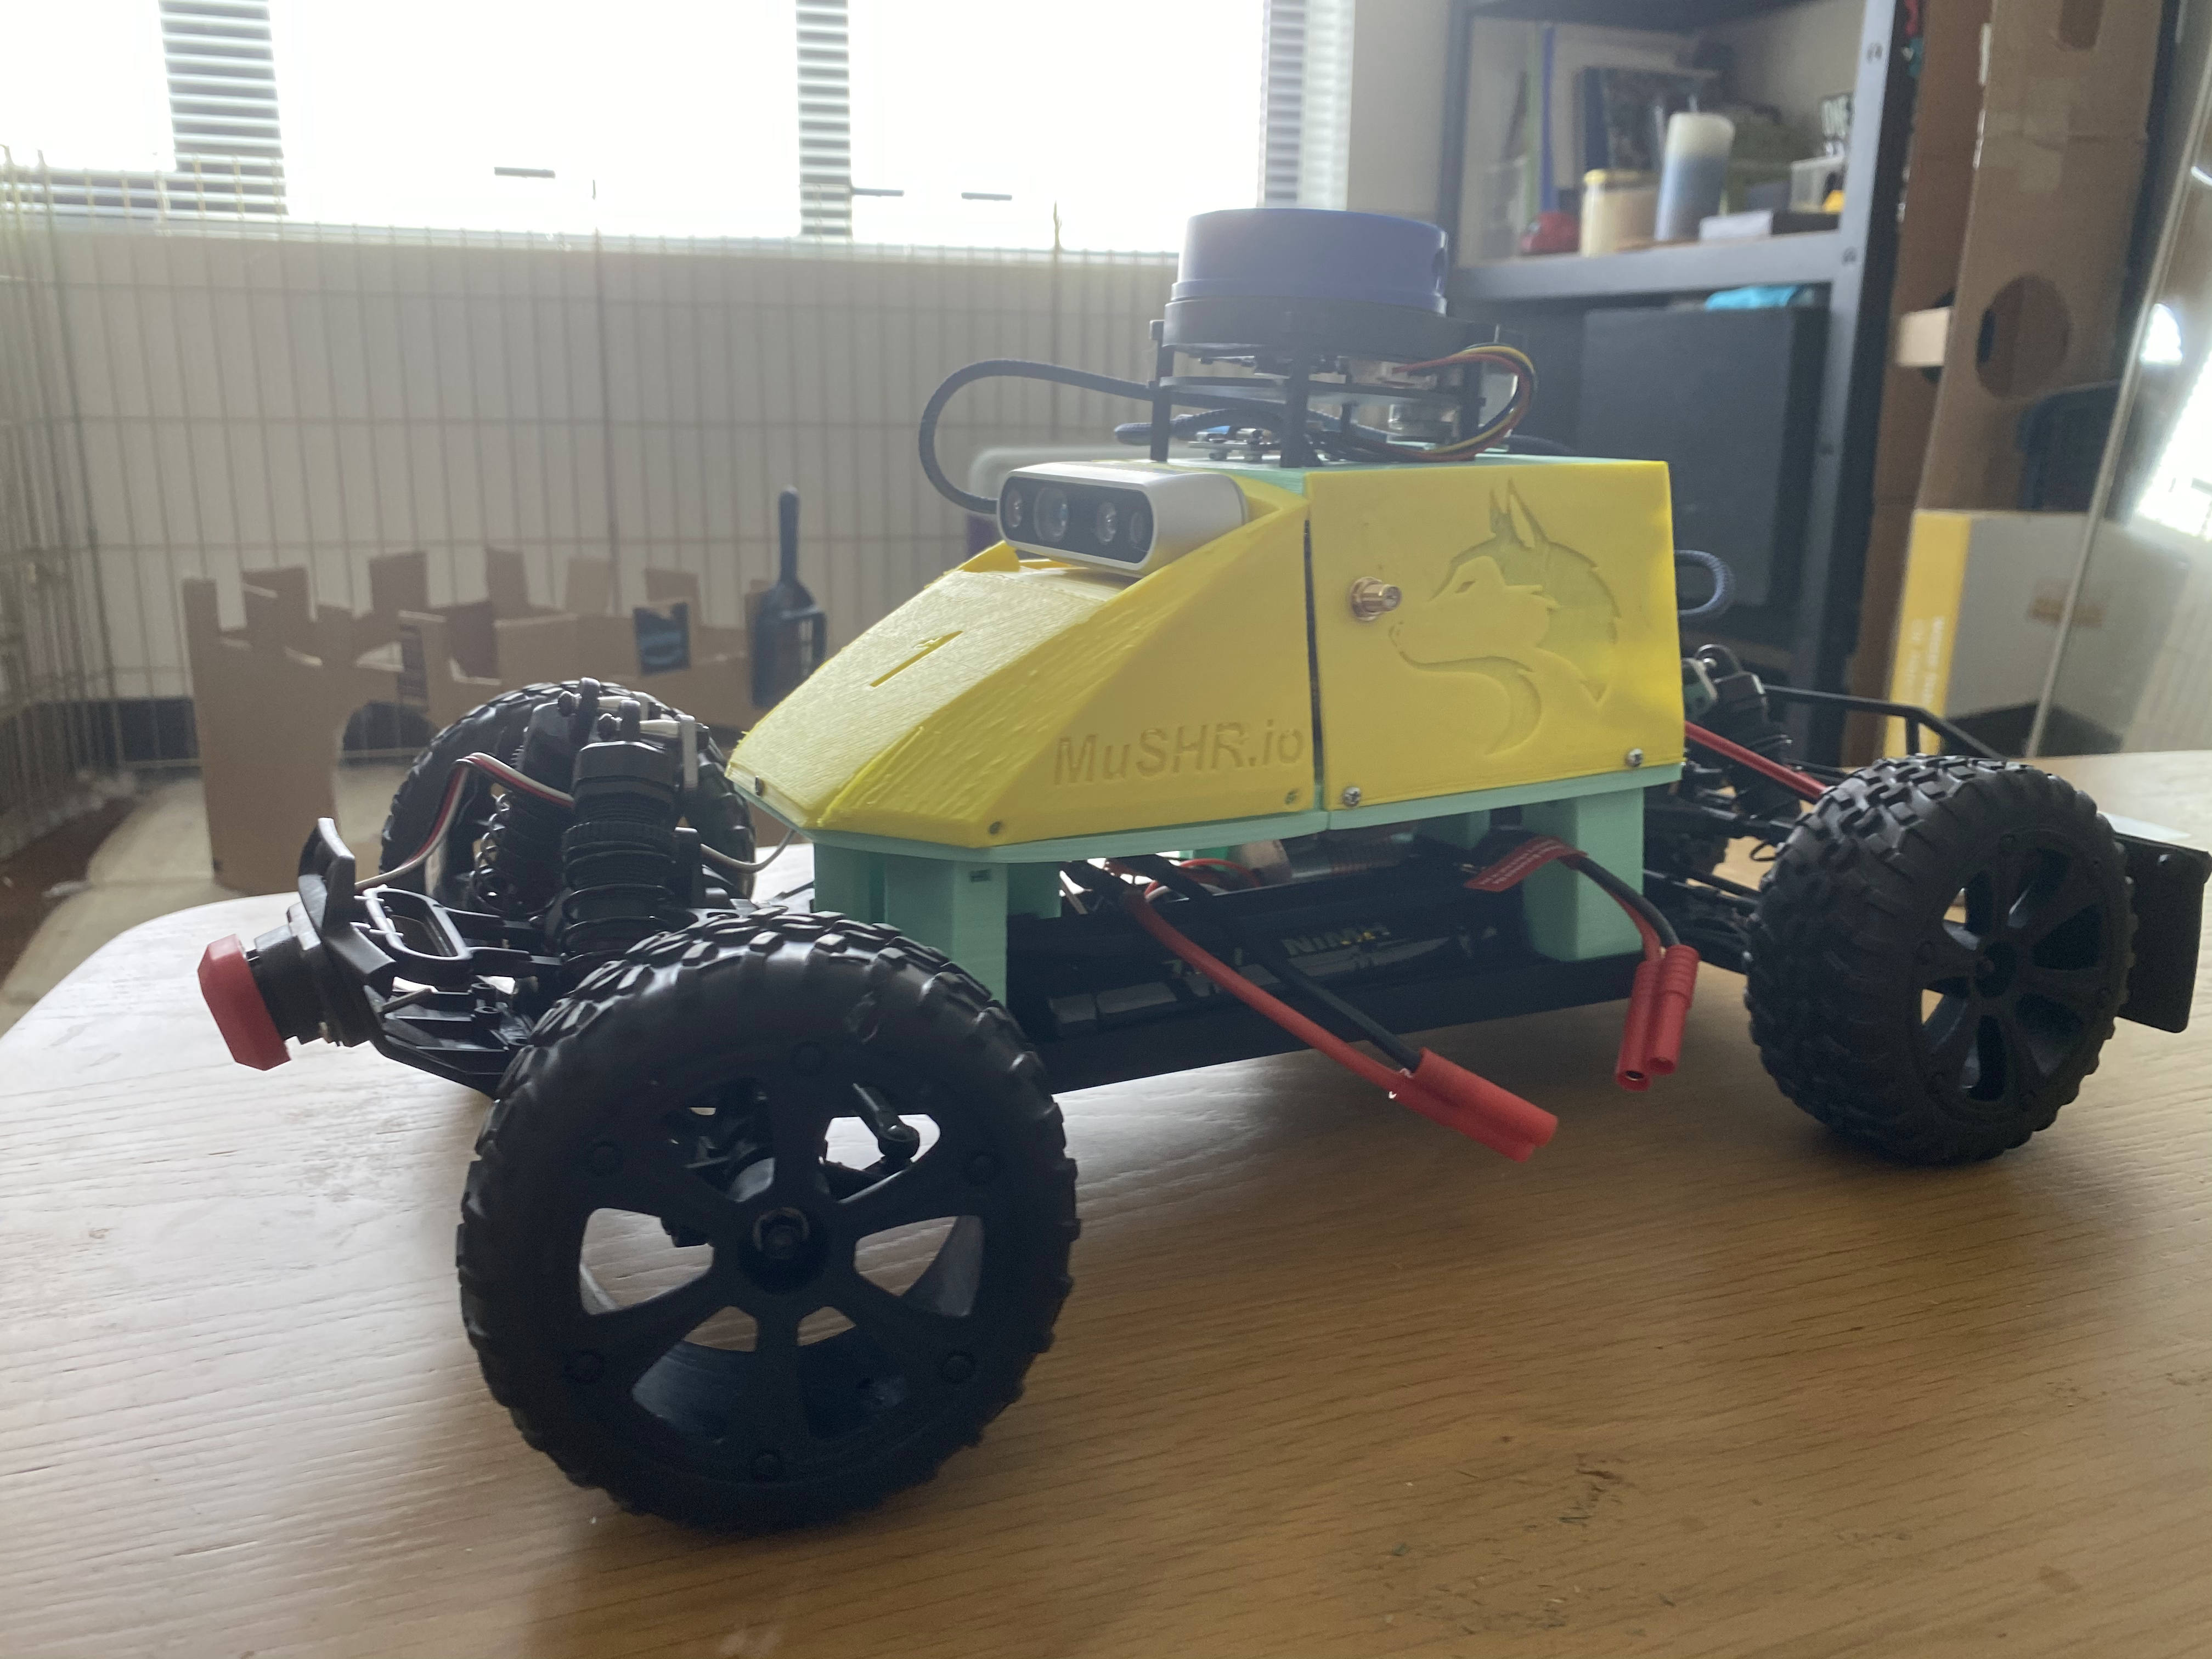mushr_car: (197, 197, 2212, 1553)
